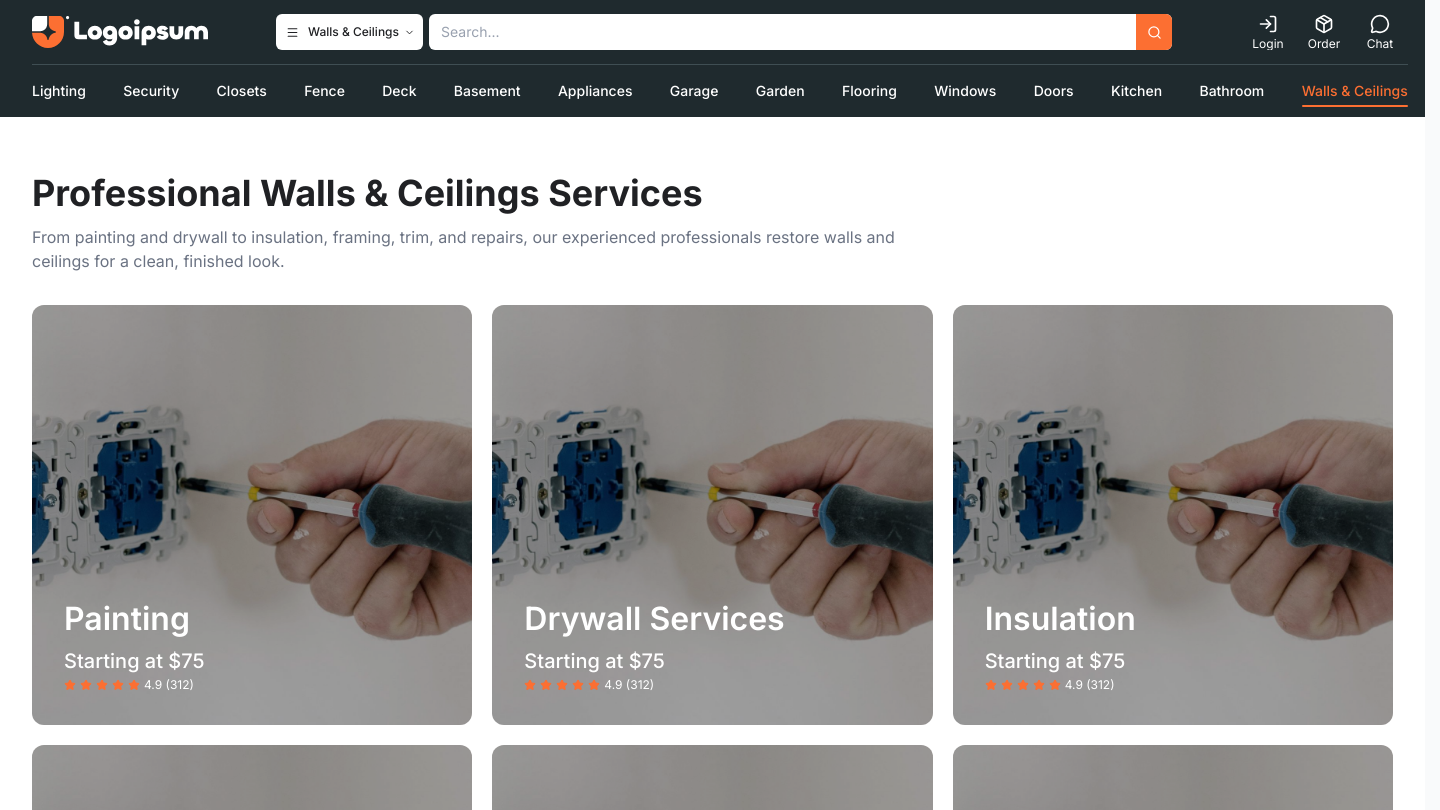
Test: Walls & Ceilings page › opens child services when a subcategory card is clicked
Click the button "Insulation Starting at $75 4.9 (312)" at (1173, 515), box [953,305,1393,725]
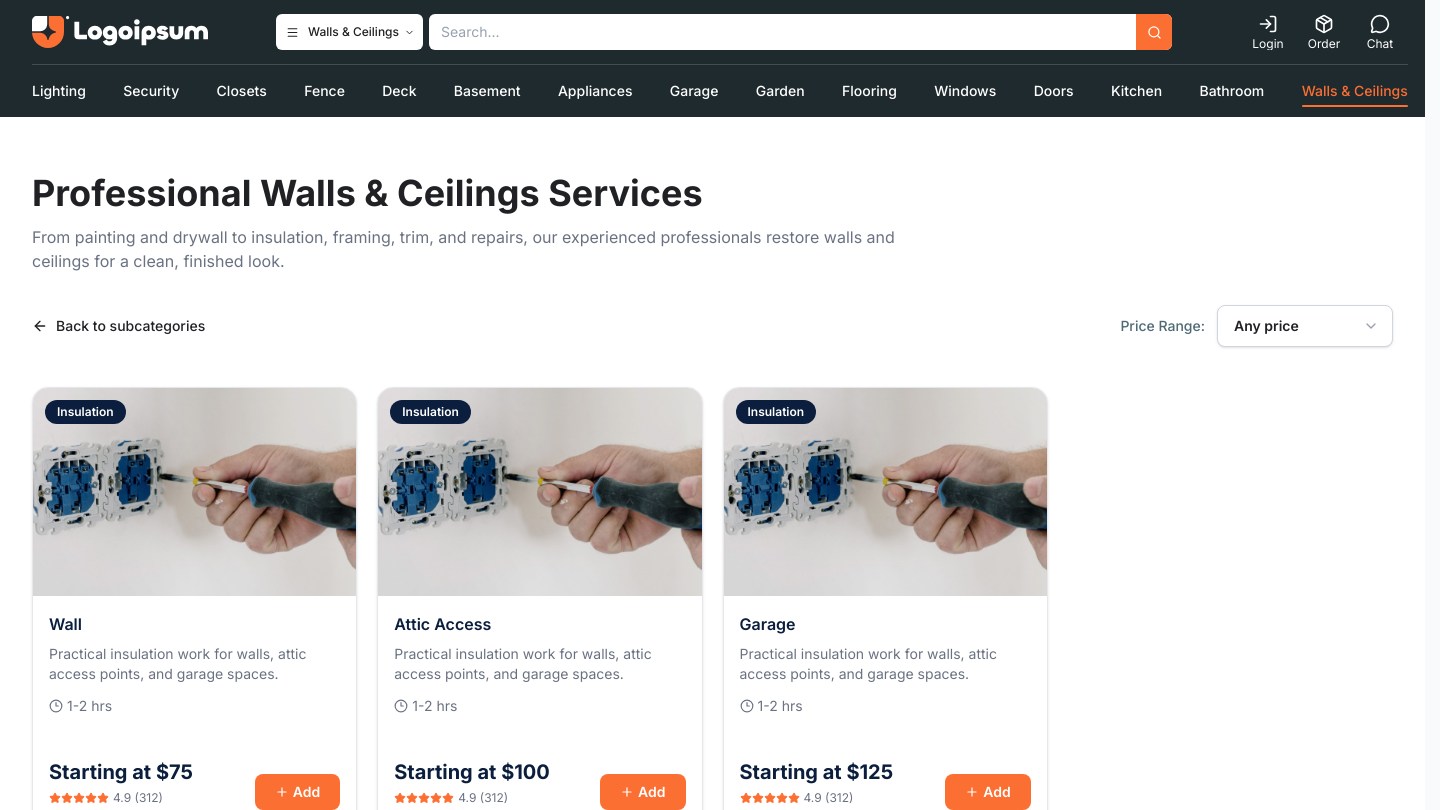
Now the heading "Attic Access" is shown, box [394,614,491,634]
Now the button "Back to subcategories" is shown, box [32,316,205,336]
